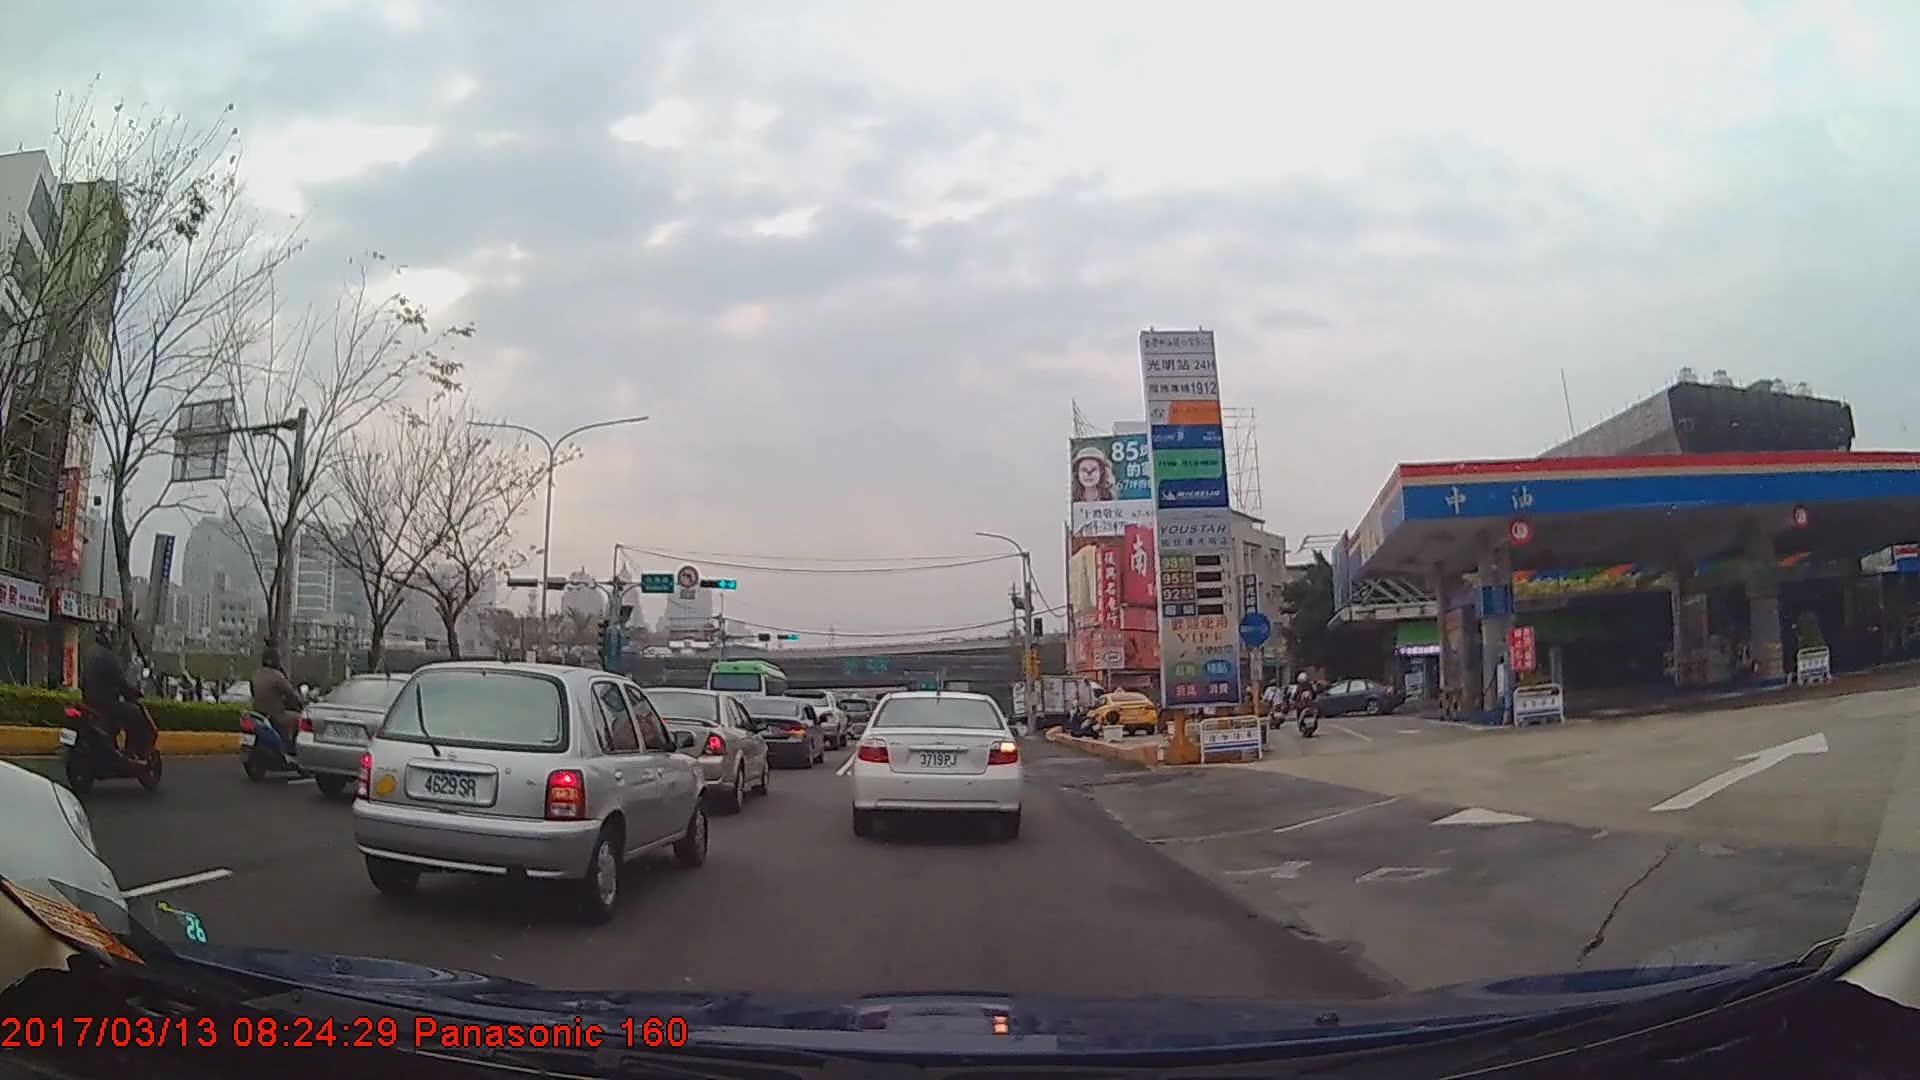rider: (58, 620, 157, 779), (237, 647, 316, 785), (1292, 671, 1319, 736), (1264, 680, 1286, 733)
vehicle: (350, 660, 708, 927), (295, 670, 511, 802), (851, 685, 1022, 839), (613, 686, 771, 815), (732, 697, 826, 772), (1008, 677, 1107, 736), (701, 655, 789, 723), (1302, 680, 1403, 719), (1087, 689, 1157, 736)
